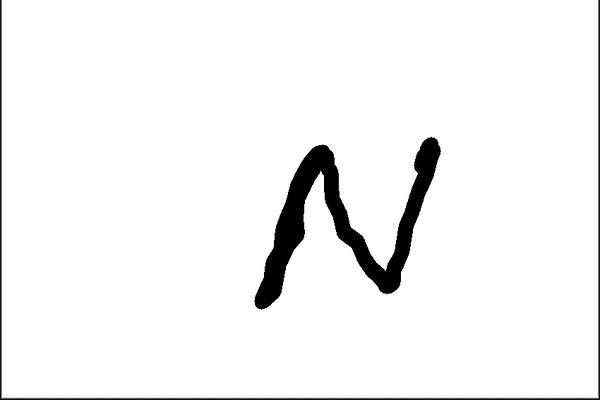N: (251, 128, 444, 313)
